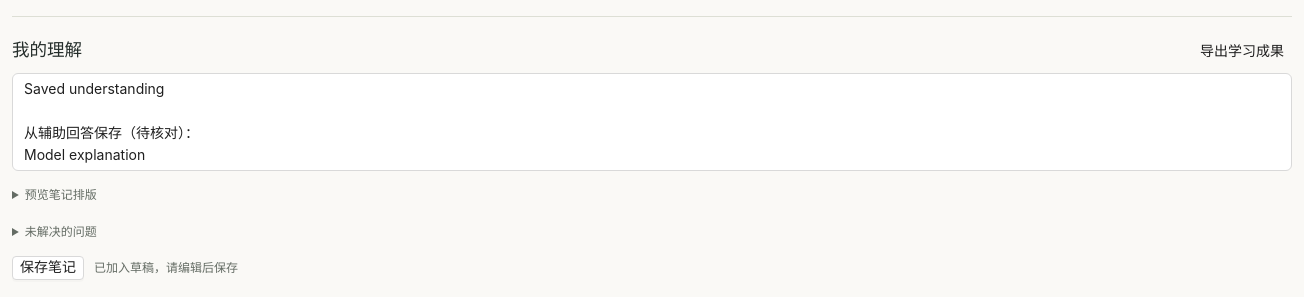
an explicitly selected AI answer is appended to a draft and is not silently saved
The width and height of the screenshot is (1304, 297).
Click the button "保存笔记": point(48, 268) [12,256,84,280]
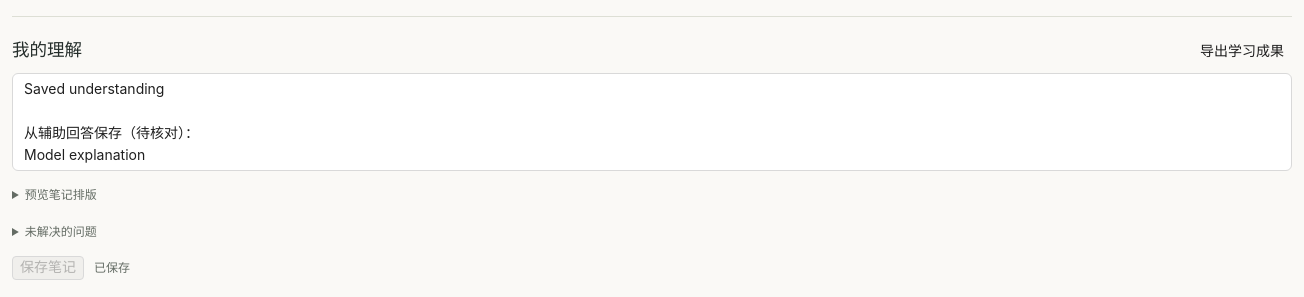
Check: the text "已保存" is shown, box [94,258,130,277]
